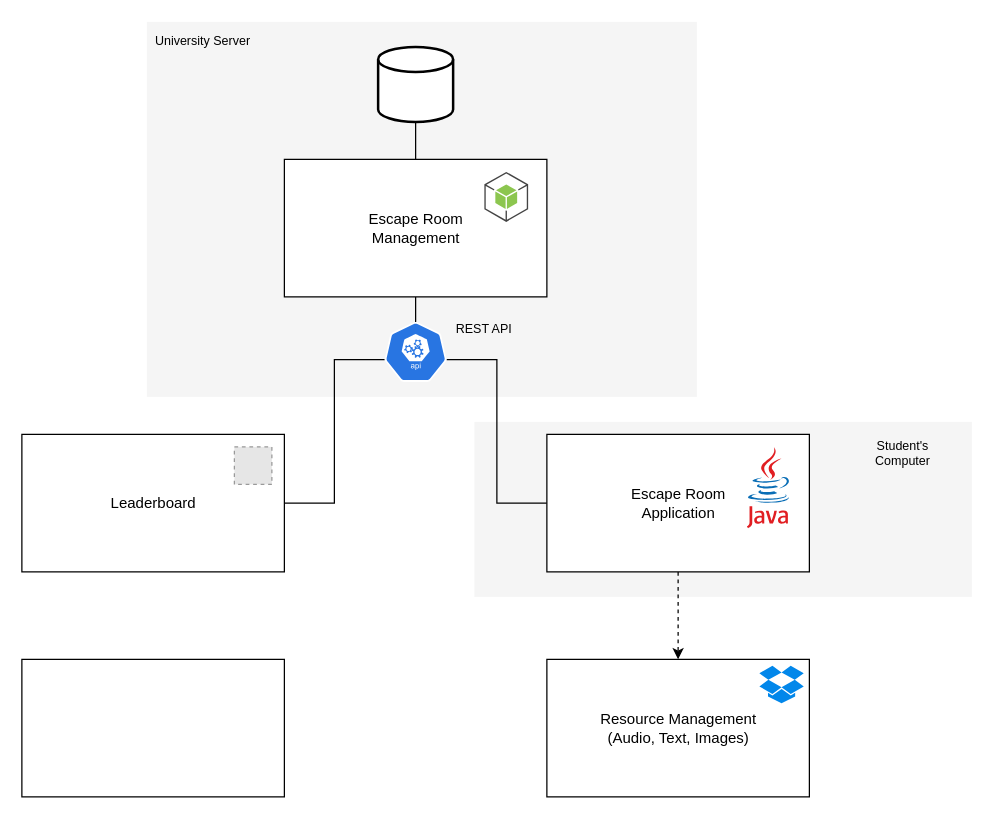
Image size: 994x819. Some labels were removed from this diagram. Grey dashed boxes stand in for pictures. The shapes that lost their labels are listed below. From the top down, each one's centre as x and y in pixels, then its label:
At point 415,83: "DB".
At point 152,727: "Hints Management (Moodle Platform)".
